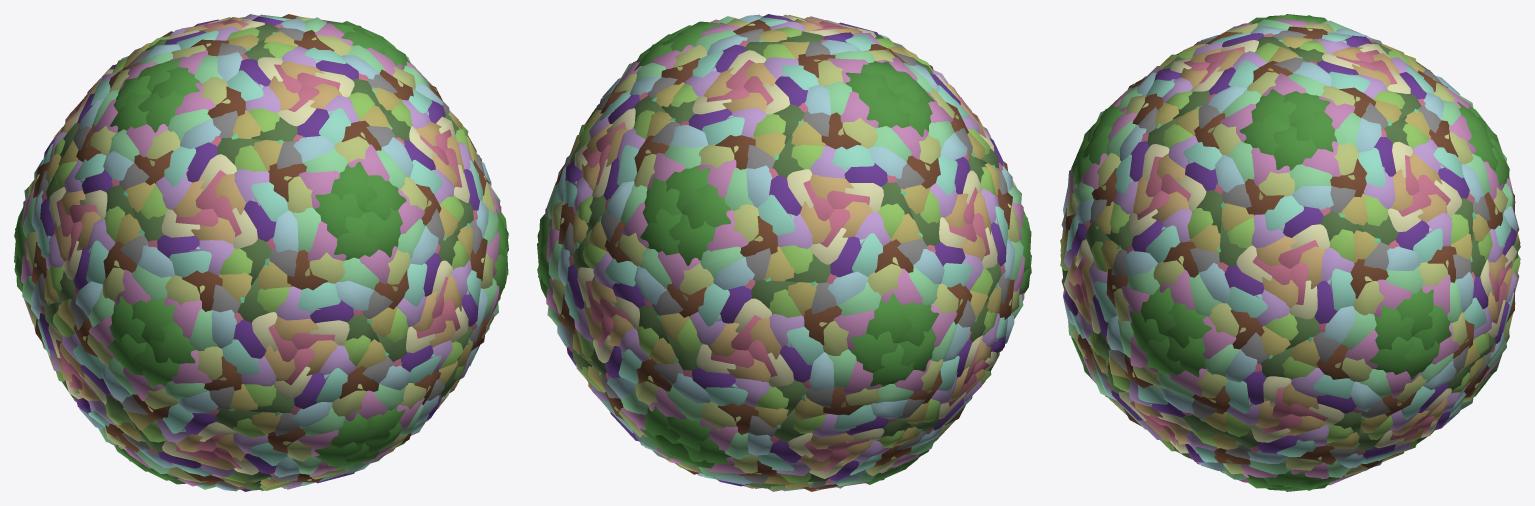
File: Herpes_600_cleaned_draco.glb
3 renders of one model, left to right at view 1: azimuth 30°, elevation 25°; view 2: azimuth 150°, elevation 25°; view 3: azimuth 270°, elevation 25°, orthographic. The views are drawn at different scales.
Visible parts, largest first — view 1: 6q1f.cif assembly 1_z Gaussian surface; view 2: 6q1f.cif assembly 1_z Gaussian surface; view 3: 6q1f.cif assembly 1_z Gaussian surface.
Part boxes in pixels (<box>): 6q1f.cif assembly 1_z Gaussian surface: <box>14,14,508,491</box>; 6q1f.cif assembly 1_z Gaussian surface: <box>537,14,1031,491</box>; 6q1f.cif assembly 1_z Gaussian surface: <box>1060,14,1520,491</box>.
Size of the model in its own units: 1554 by 1554 by 1554.
